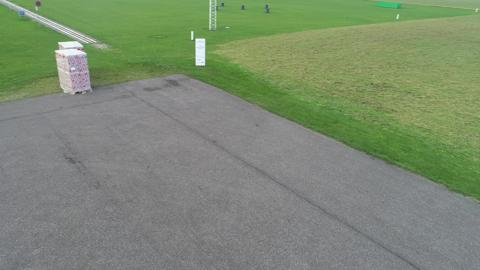RockwoolPallet: (60, 40, 84, 52)
